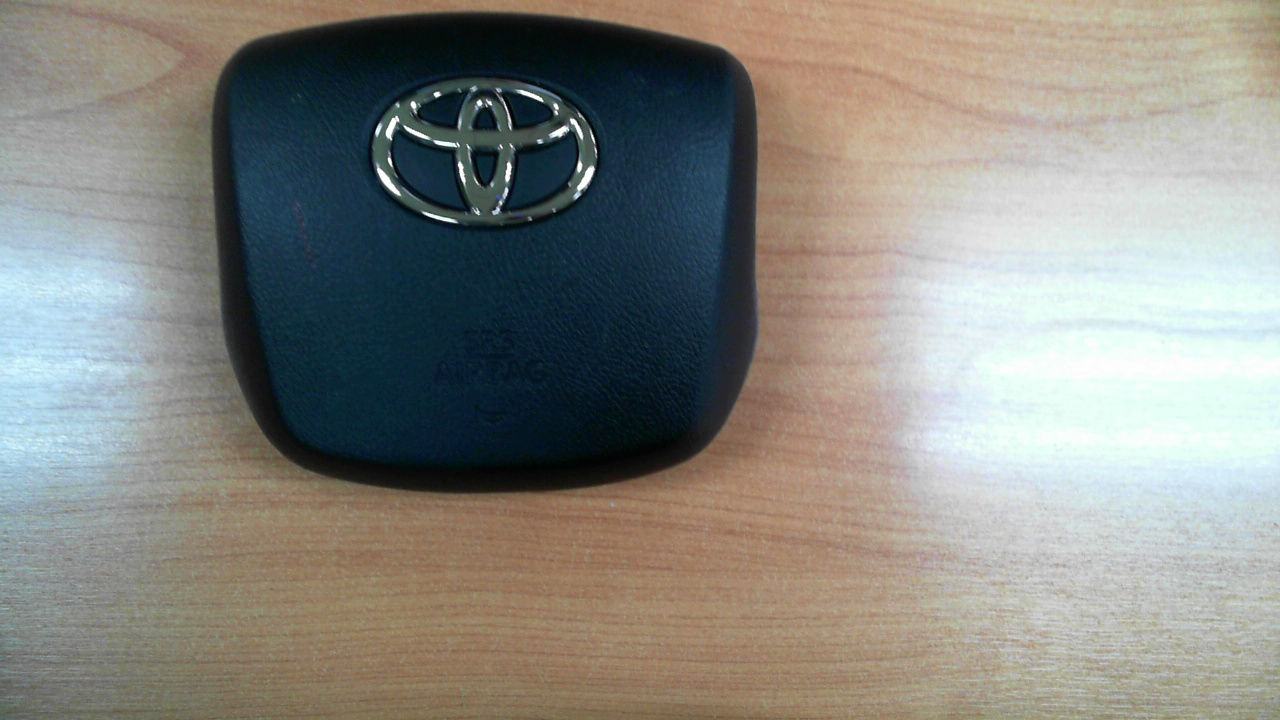Airbag: (212, 12, 764, 493)
Toyota: (371, 77, 599, 226)
